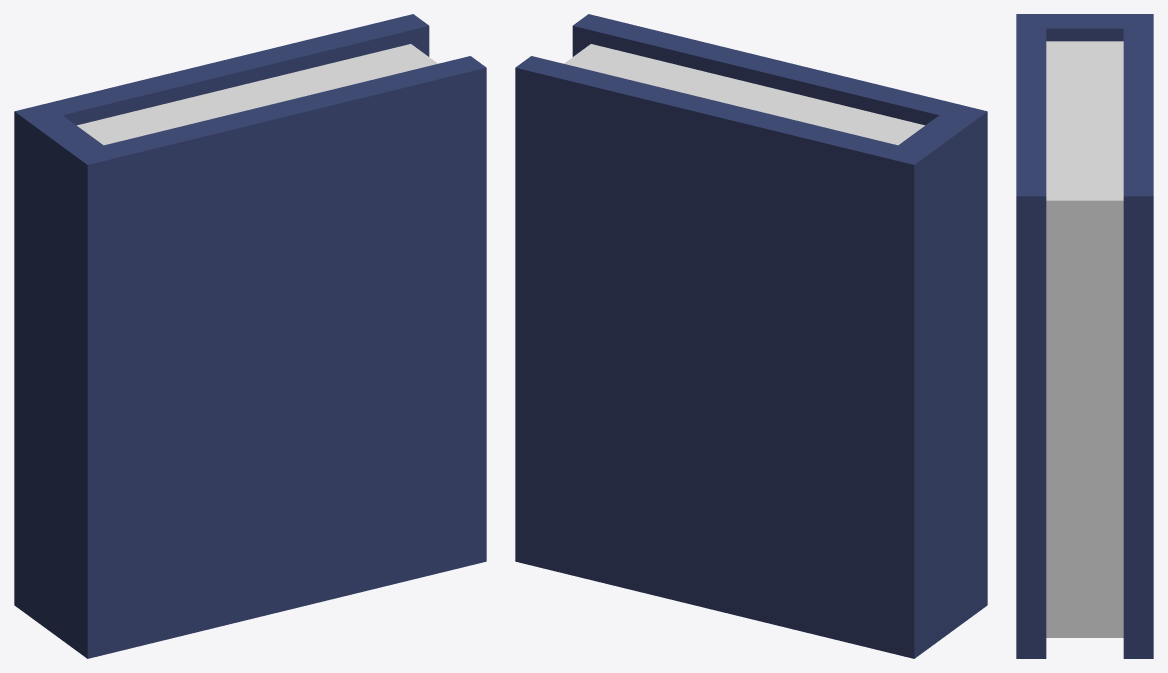
File: bookBlue.fbx
3 views of the same model, side by side, from view 1: azimuth 30°, elevation 25°; view 2: azimuth 150°, elevation 25°; view 3: azimuth 270°, elevation 25° (orthographic). The views are drawn at different scales.
Visible parts, largest first — view 1: bookBlue; view 2: bookBlue; view 3: bookBlue.
Boxes of the visible parts, <box> form: bookBlue: <box>14,14,486,658</box>; bookBlue: <box>515,14,987,658</box>; bookBlue: <box>1016,14,1153,658</box>.
Size of the model in its own units: 59.98 by 70.94 by 19.09.
